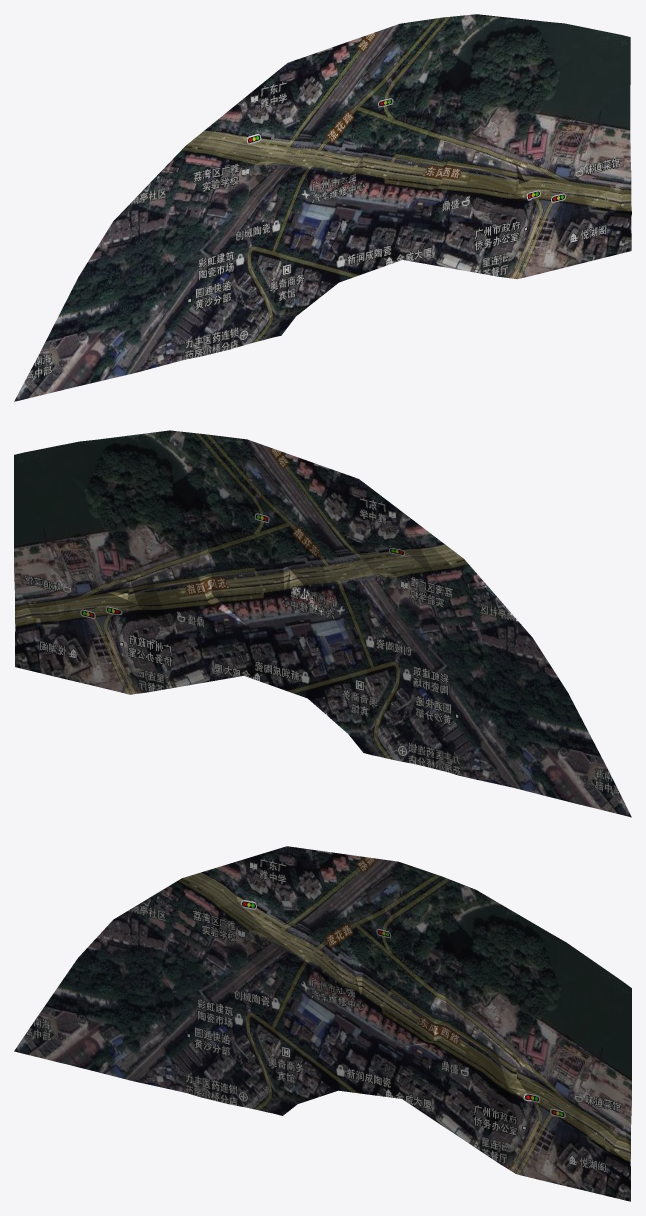
3 renders of one model, top to bottom at view 1: azimuth 30°, elevation 25°; view 2: azimuth 150°, elevation 25°; view 3: azimuth 330°, elevation 25°, orthographic.
Visible parts, largest first — view 1: 0_0_3_1_3; view 2: 0_0_3_1_3; view 3: 0_0_3_1_3.
Part boxes in pixels (<box>): 0_0_3_1_3: <box>14,14,631,401</box>; 0_0_3_1_3: <box>14,430,631,817</box>; 0_0_3_1_3: <box>14,846,631,1201</box>.
Size of the model in its own units: 911 by 401 by 13.
1 material, 1 textured.
